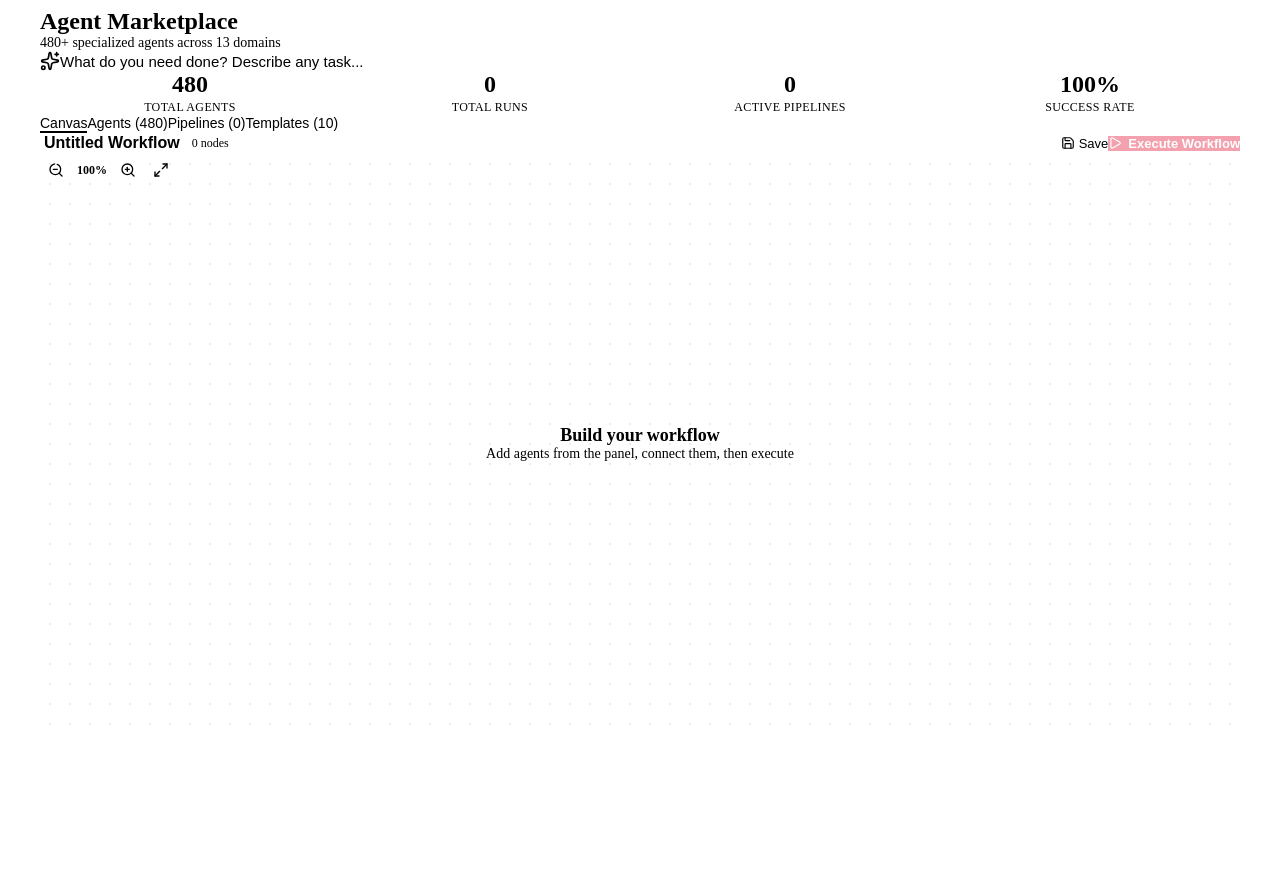
Test: AIAgentsPage › switches to agents tab and shows all 20 agent cards
Step 1. Click the tab "Agents (480)" → click(128, 124), box [88,115,168,133]
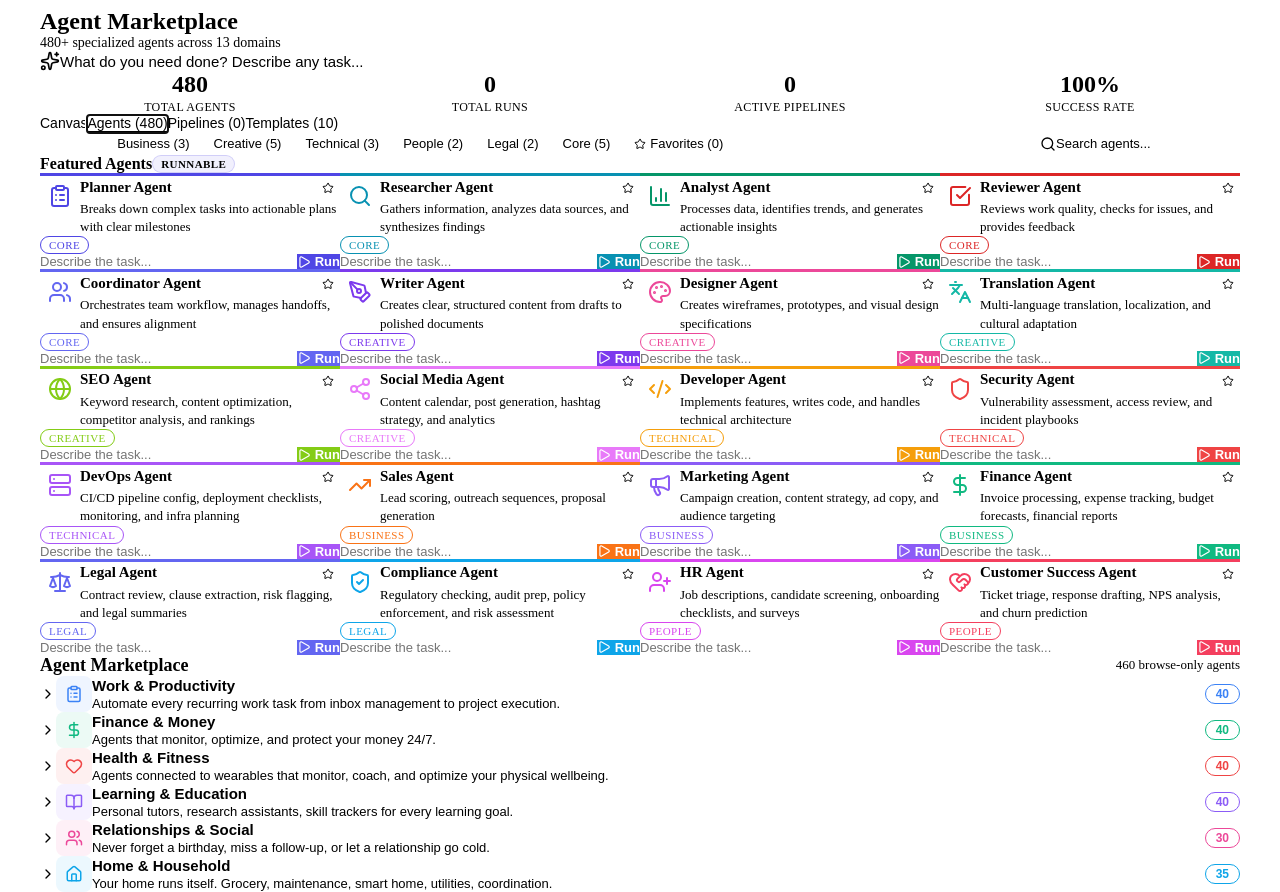
Now the heading "Planner Agent" is shown, box [80,178,172,196]
Now the heading "Researcher Agent" is shown, box [380,178,493,196]
Now the heading "Analyst Agent" is shown, box [680,178,770,196]
